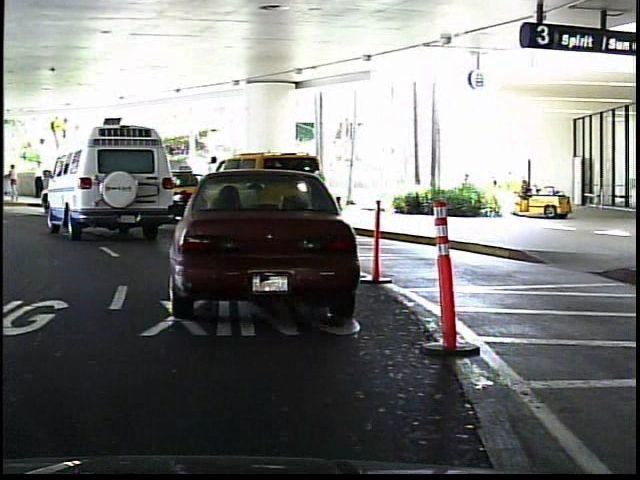person: (202, 153, 226, 213), (7, 162, 23, 203), (32, 160, 47, 202)
